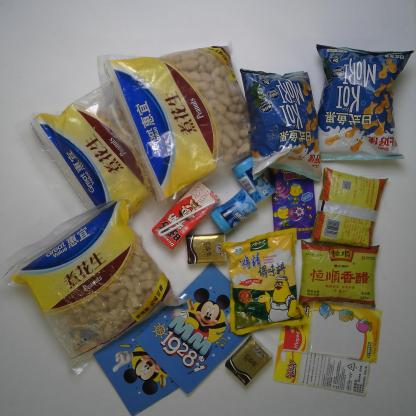Candy: (265, 161, 322, 243)
Dried Food: (0, 196, 196, 378), (92, 40, 258, 206), (26, 76, 162, 230)
Gum: (229, 154, 278, 206), (206, 188, 259, 236)
Milk: (148, 176, 221, 252)
Puffed Food: (307, 38, 415, 168), (230, 66, 327, 183)
Seasoner: (218, 226, 310, 338), (308, 166, 390, 250), (295, 237, 381, 312)
Stationery: (134, 258, 262, 398), (88, 302, 189, 416), (272, 323, 375, 399), (278, 294, 384, 364)
Tissue: (222, 331, 276, 387), (184, 230, 228, 266)
